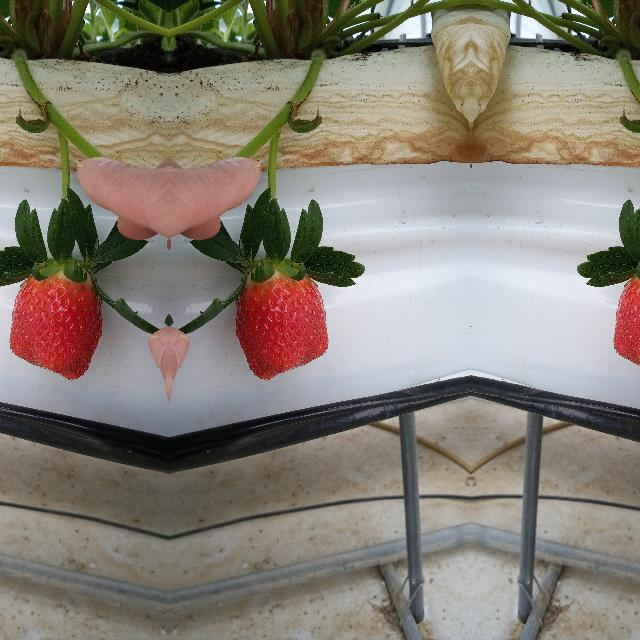Health_100: (232, 264, 328, 381), (8, 264, 104, 381), (613, 263, 640, 380)
